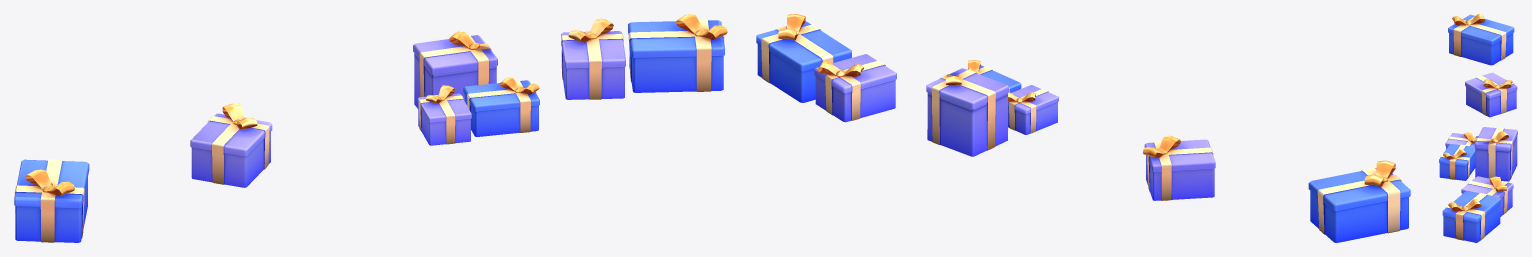
File: obj_gifts.gltf
3 renders of one model, left to right at view 1: azimuth 30°, elevation 25°; view 2: azimuth 150°, elevation 25°; view 3: azimuth 270°, elevation 25°, orthographic. The views are drawn at different scales.
Parts seen in each view (by area): view 1: obj_gifts; view 2: obj_gifts; view 3: obj_gifts.
Part boxes in pixels (left/top/right/bottom): obj_gifts: left=14, top=14, right=727, bottom=242; obj_gifts: left=756, top=14, right=1410, bottom=242; obj_gifts: left=1439, top=14, right=1517, bottom=242.
Size of what is drawn, in the model's own units: 12.44 by 1.23 by 2.03.
1 material, 1 textured.
